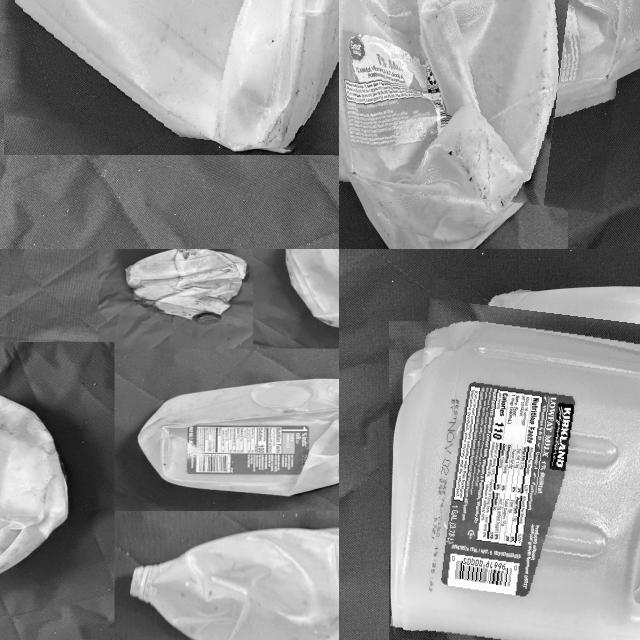milk-jug: (396, 290, 640, 640), (339, 0, 636, 202), (0, 0, 339, 148), (139, 375, 339, 495), (132, 526, 339, 640), (0, 396, 68, 600), (121, 249, 253, 327), (282, 249, 339, 337)
